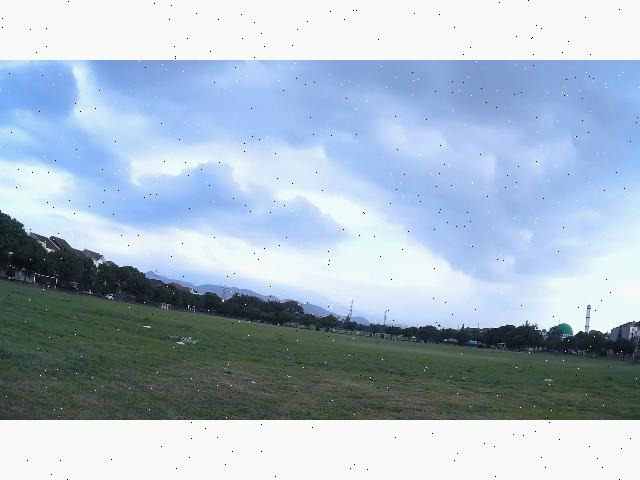Anti-Drone: (324, 299, 340, 314)
